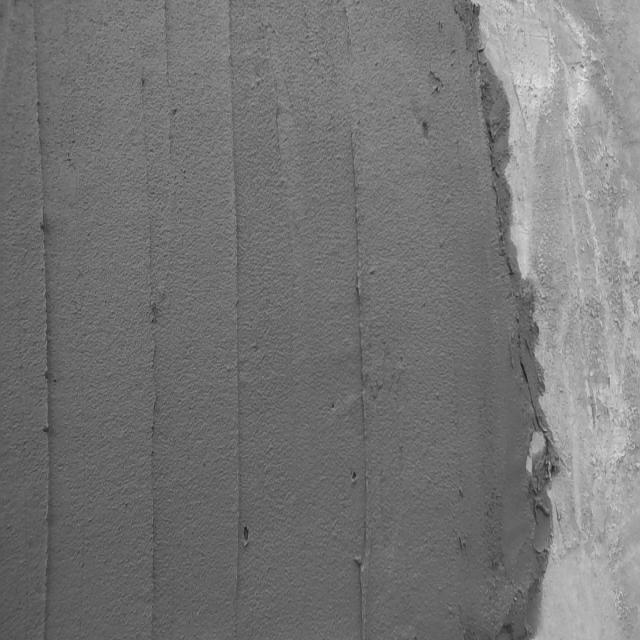trowels marks: (27, 19, 62, 632), (349, 130, 376, 634), (226, 7, 245, 637), (150, 292, 161, 636)
